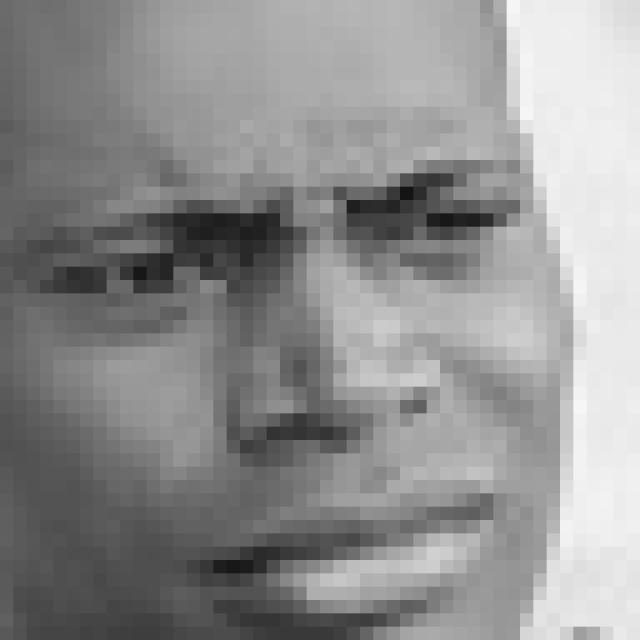disgust: (24, 155, 539, 640)
